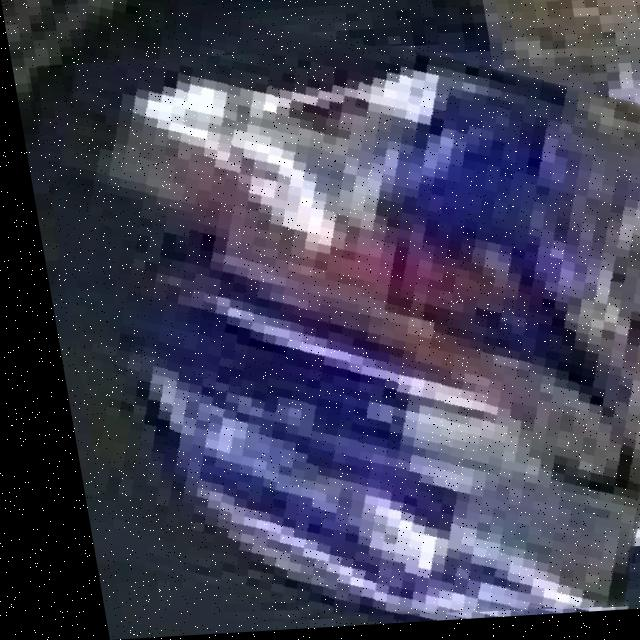can: (47, 50, 640, 622)
